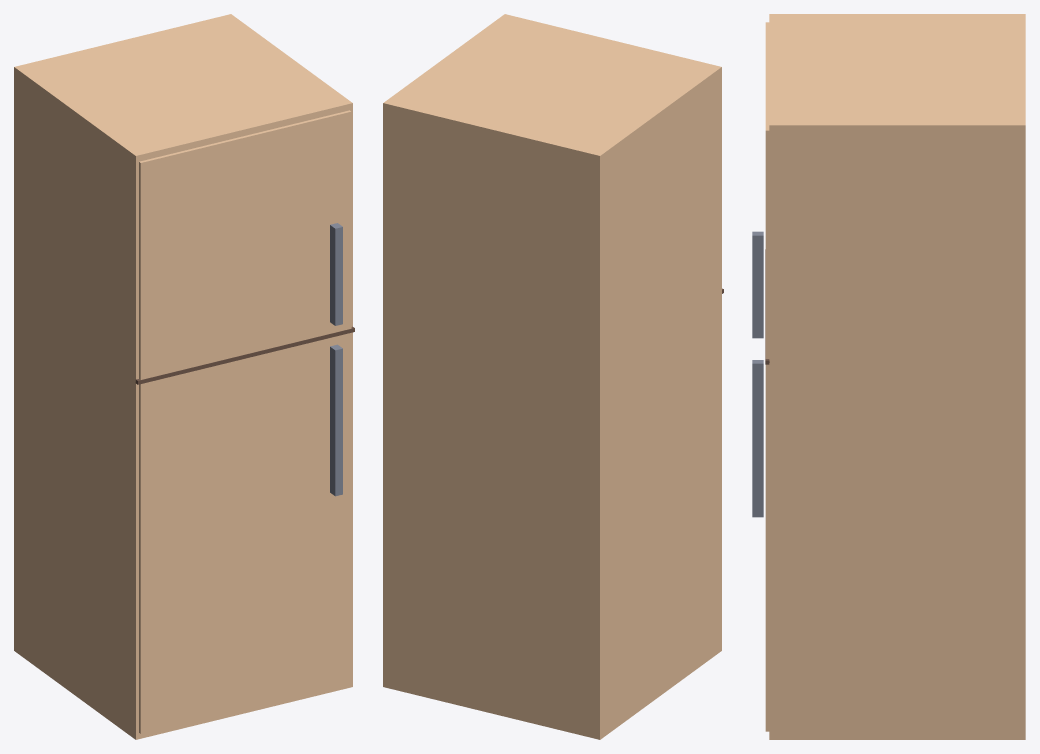
The model's file is Fridge.fbx.
3 views of the same model, side by side, from view 1: azimuth 30°, elevation 25°; view 2: azimuth 150°, elevation 25°; view 3: azimuth 270°, elevation 25° (orthographic). The views are drawn at different scales.
Parts seen in each view (by area): view 1: Fridge; view 2: Fridge; view 3: Fridge.
Boxes of the visible parts, box(x1,y1,x2,y2) form: Fridge: box(14, 14, 354, 739); Fridge: box(383, 14, 723, 739); Fridge: box(752, 14, 1025, 739).
Bounding box in the file's own units: 0.7 × 1.8 × 0.725.
1 material, 1 textured.
